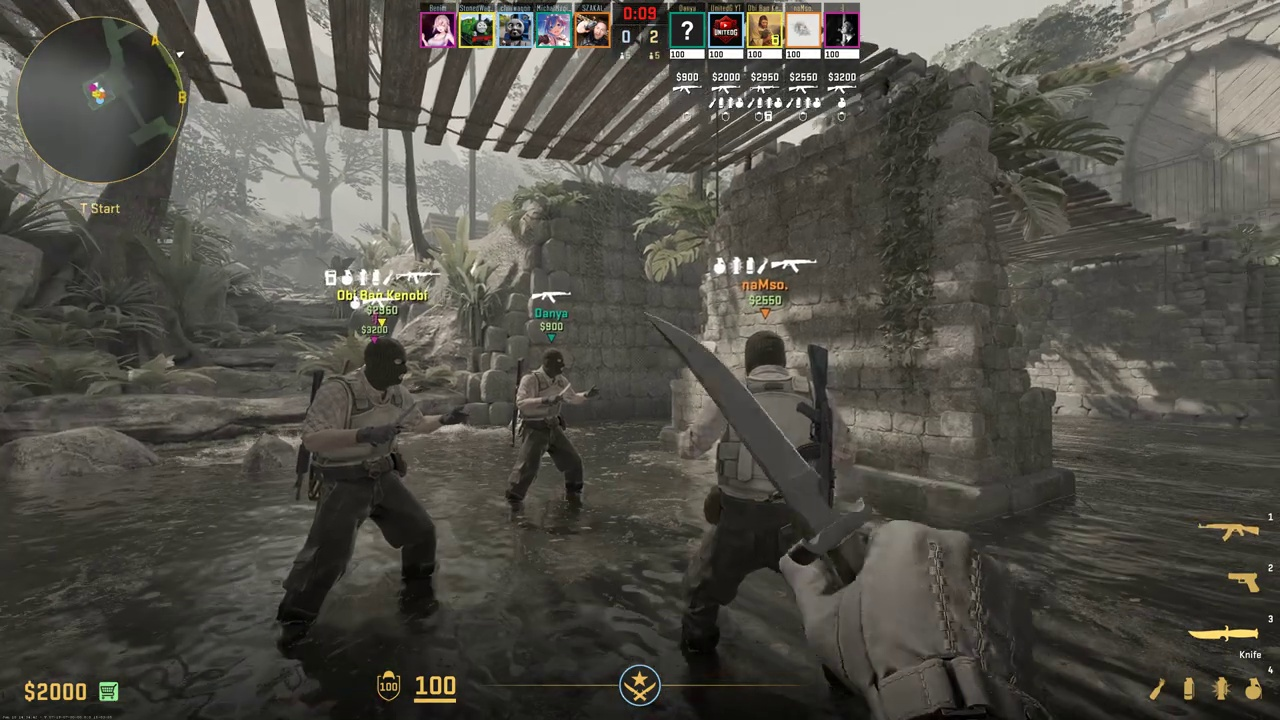Terrorist: (676, 330, 849, 692), (290, 337, 444, 645), (506, 348, 588, 518)
